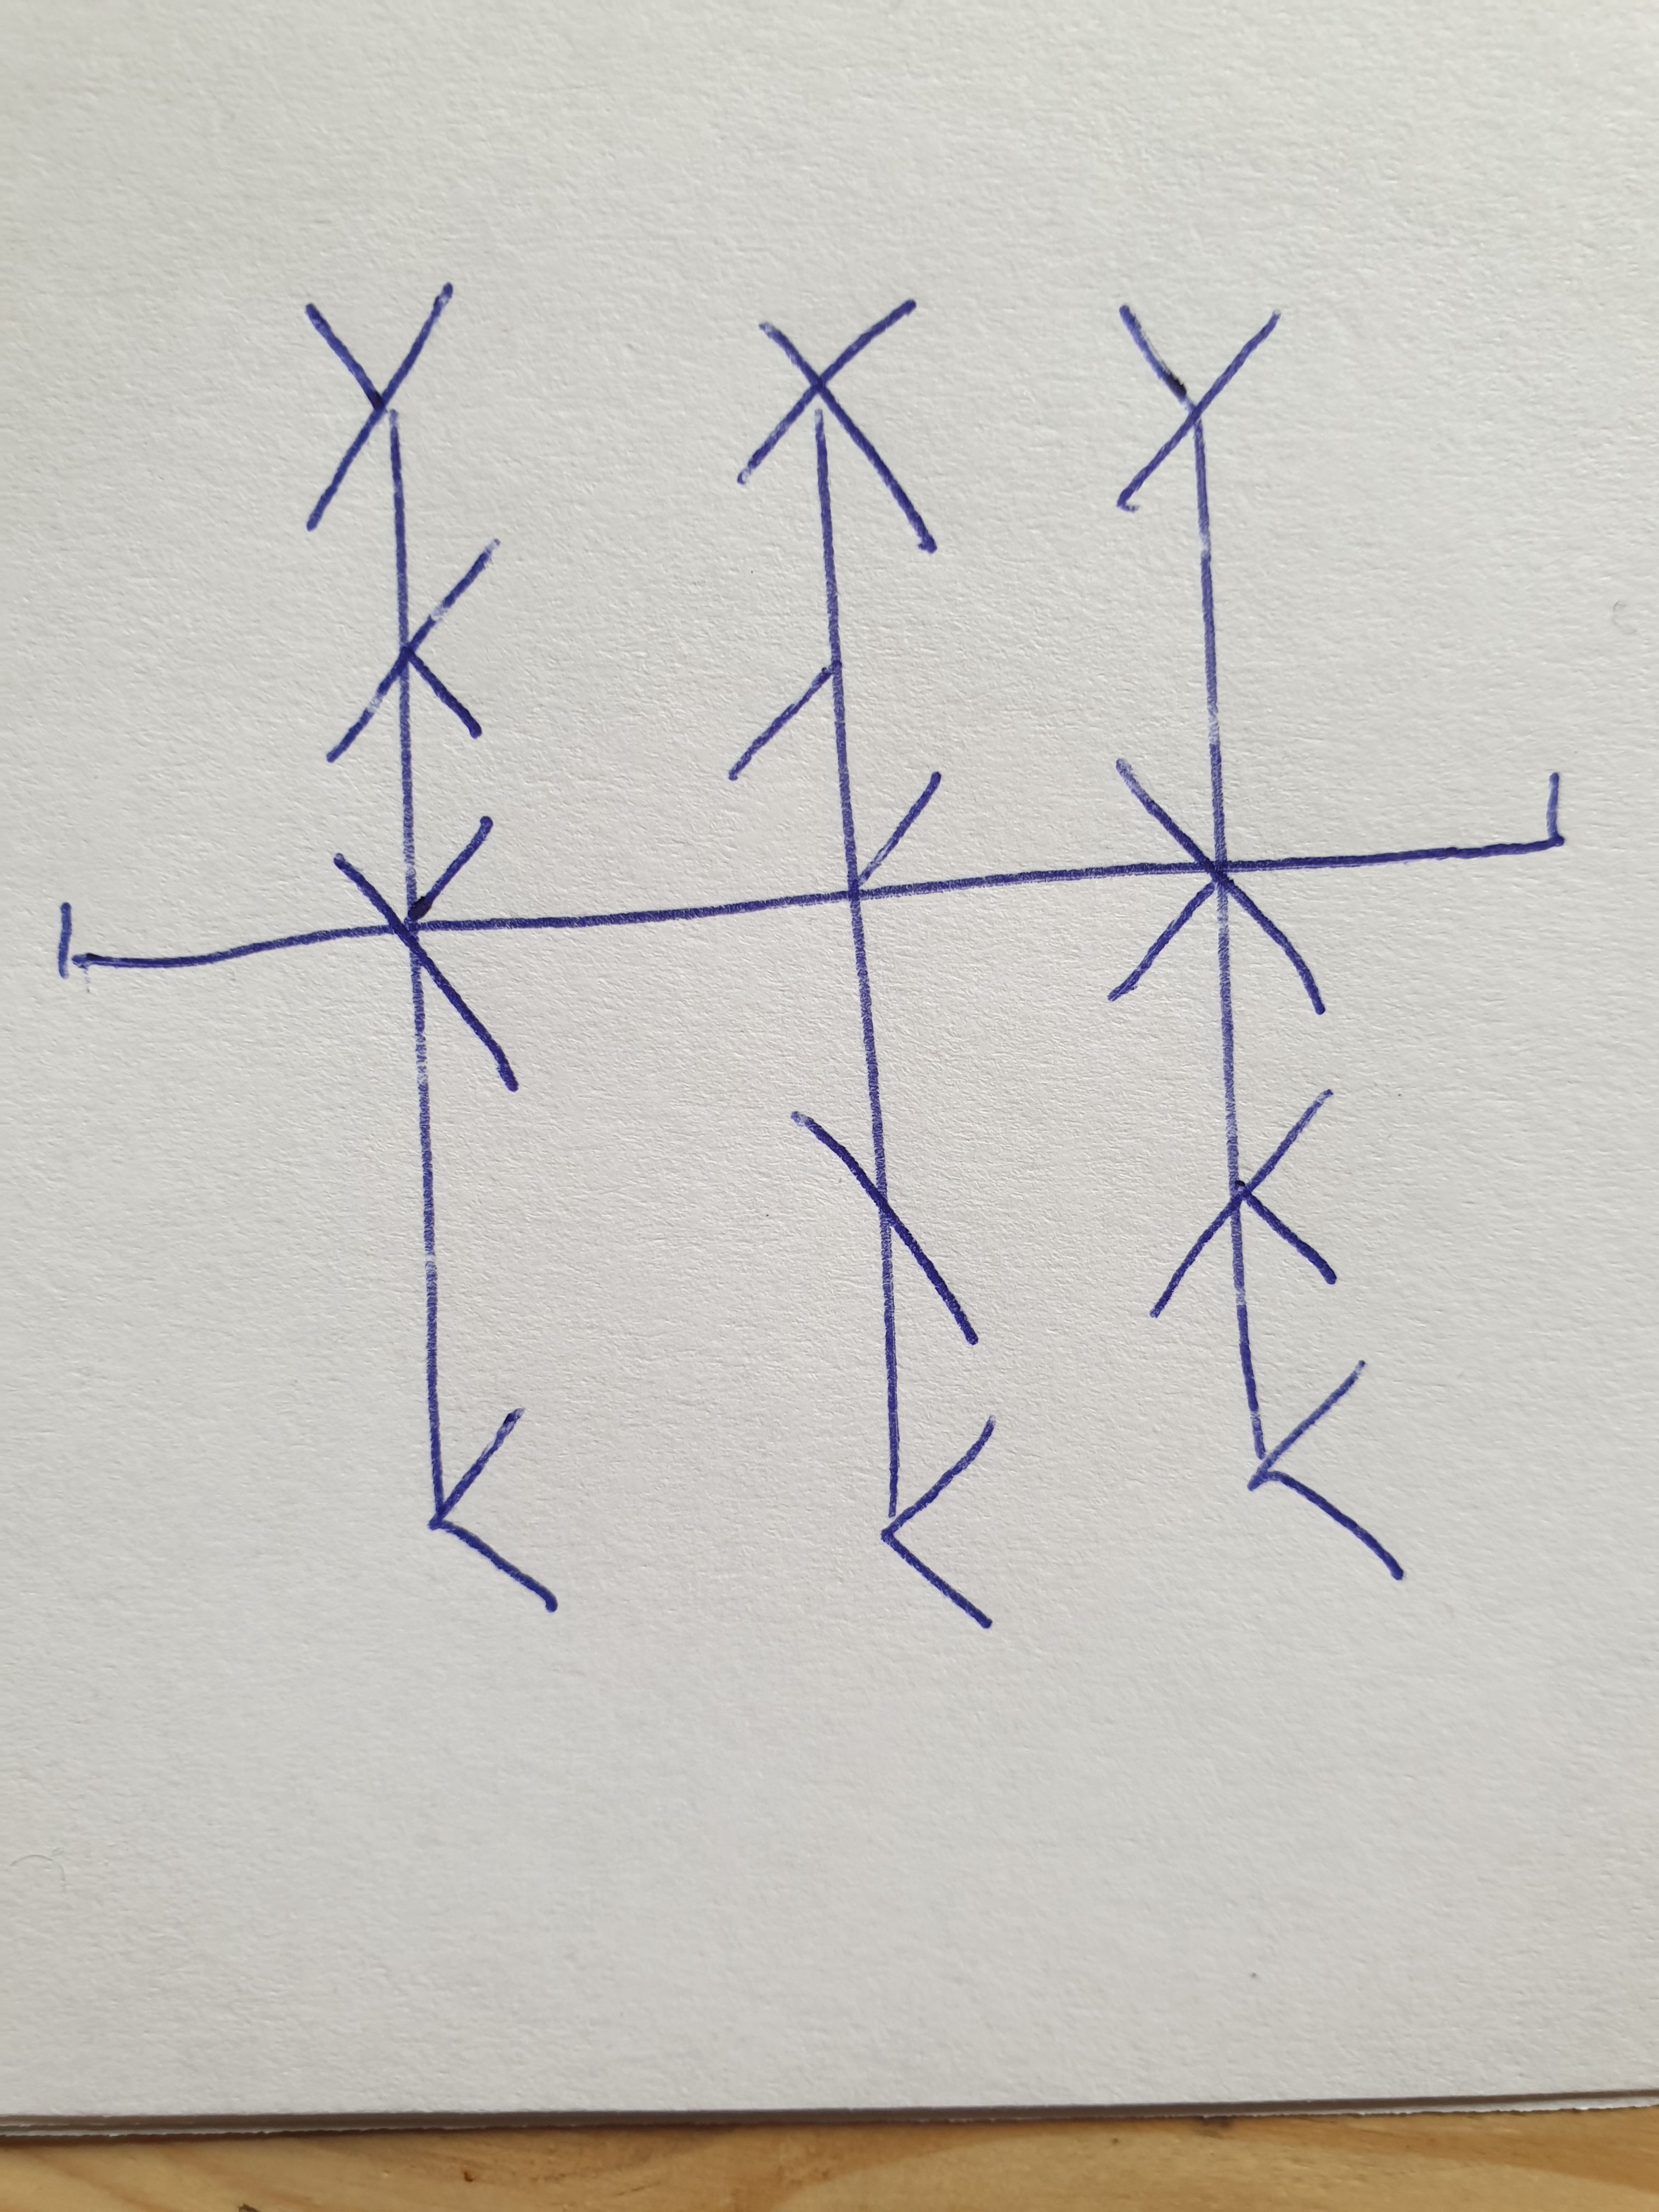Bar: (1107, 303, 1406, 1585), (727, 294, 995, 1630), (300, 282, 559, 1615)
Barcode: (54, 280, 1565, 1630)
End: (1227, 772, 1565, 876)
Start: (56, 897, 359, 982)
